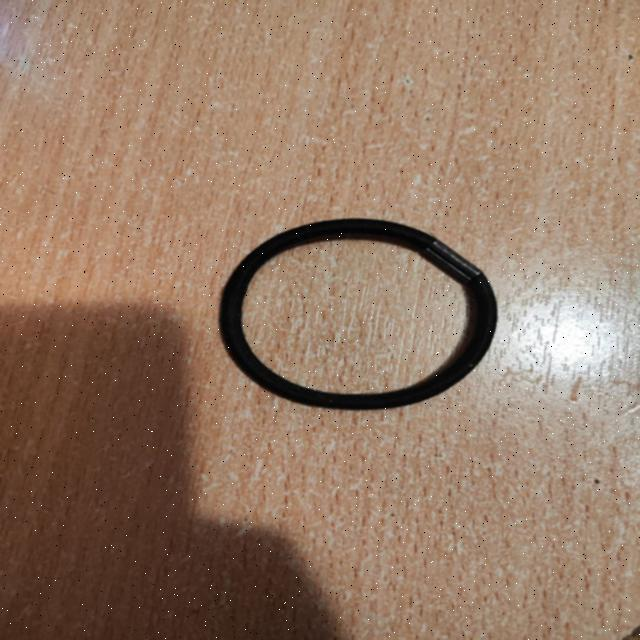Circle: (220, 216, 499, 412)
